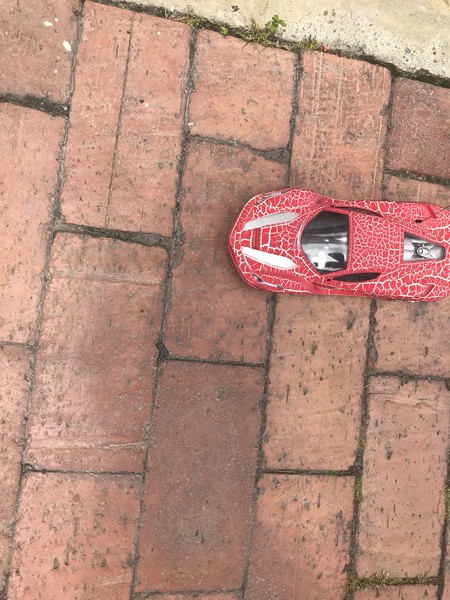RC: (225, 185, 450, 306)
